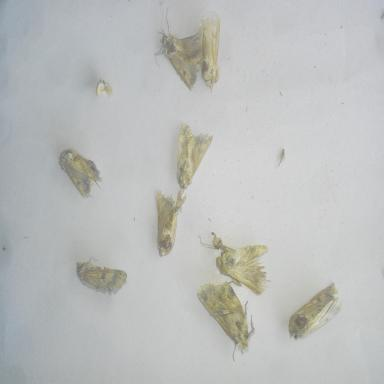abw: (194, 278, 257, 366), (150, 4, 207, 94), (284, 278, 344, 344), (212, 239, 273, 298), (174, 118, 216, 195), (192, 7, 226, 95), (56, 143, 104, 204), (152, 184, 190, 260), (73, 253, 130, 301)
